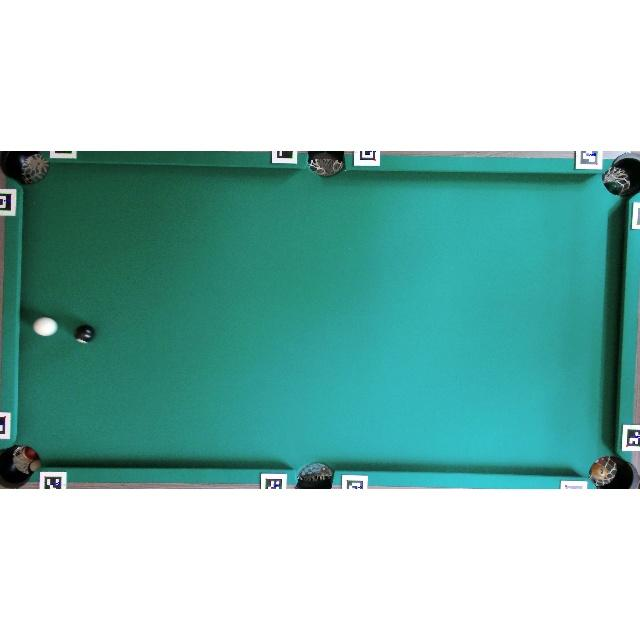cue ball: (32, 316, 58, 338)
other: (74, 324, 95, 344)
